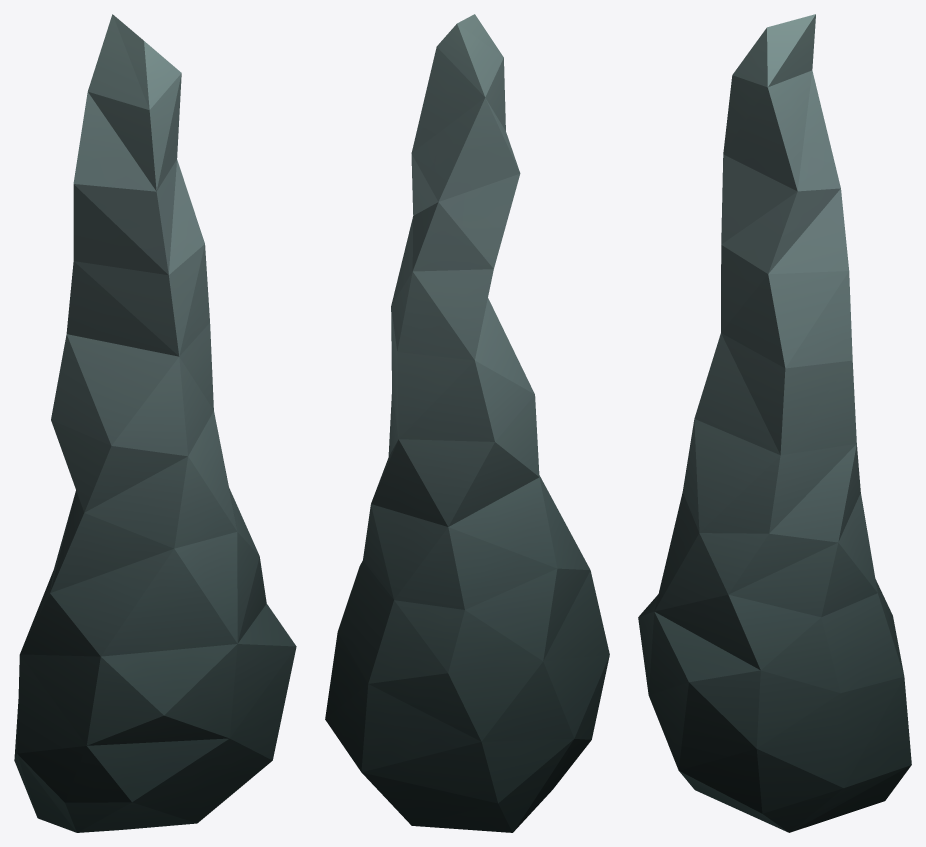
3 views of the same model, side by side, from view 1: azimuth 30°, elevation 25°; view 2: azimuth 150°, elevation 25°; view 3: azimuth 270°, elevation 25° (orthographic).
Parts seen in each view (by area): view 1: base_01; view 2: base_01; view 3: base_01.
Part boxes in pixels (x1,y1,x2,y2): base_01: [14, 14, 296, 832]; base_01: [325, 14, 609, 832]; base_01: [638, 14, 911, 832].
Bounding box in the file's own units: 1.07 × 3.34 × 1.03.
